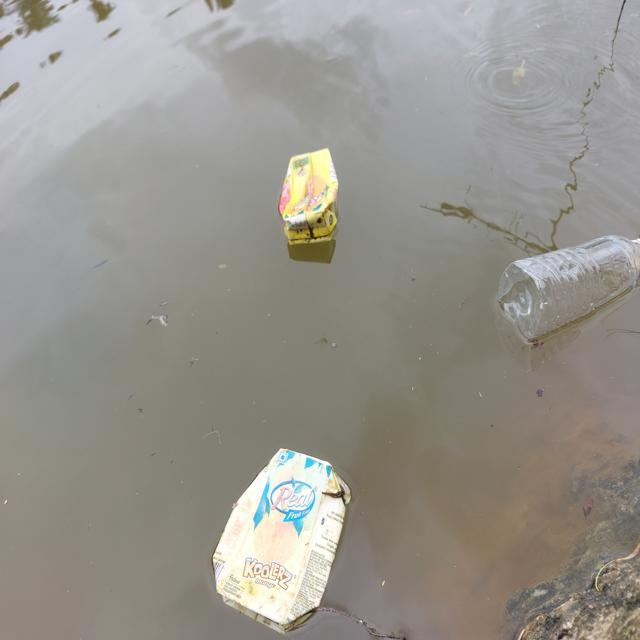paper: (199, 435, 360, 640), (264, 149, 351, 266)
waterbottle: (486, 231, 640, 354)
